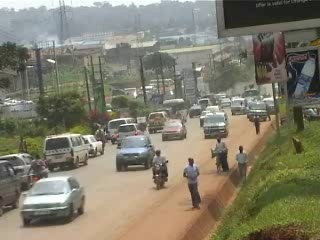Car: (18, 172, 88, 227), (113, 134, 158, 171), (114, 122, 149, 146), (161, 116, 188, 144), (144, 109, 170, 133), (198, 105, 226, 126), (185, 103, 204, 118), (215, 97, 236, 110)
Motorcycle: (148, 152, 170, 191), (28, 153, 51, 189), (92, 125, 107, 151), (135, 114, 147, 135)
